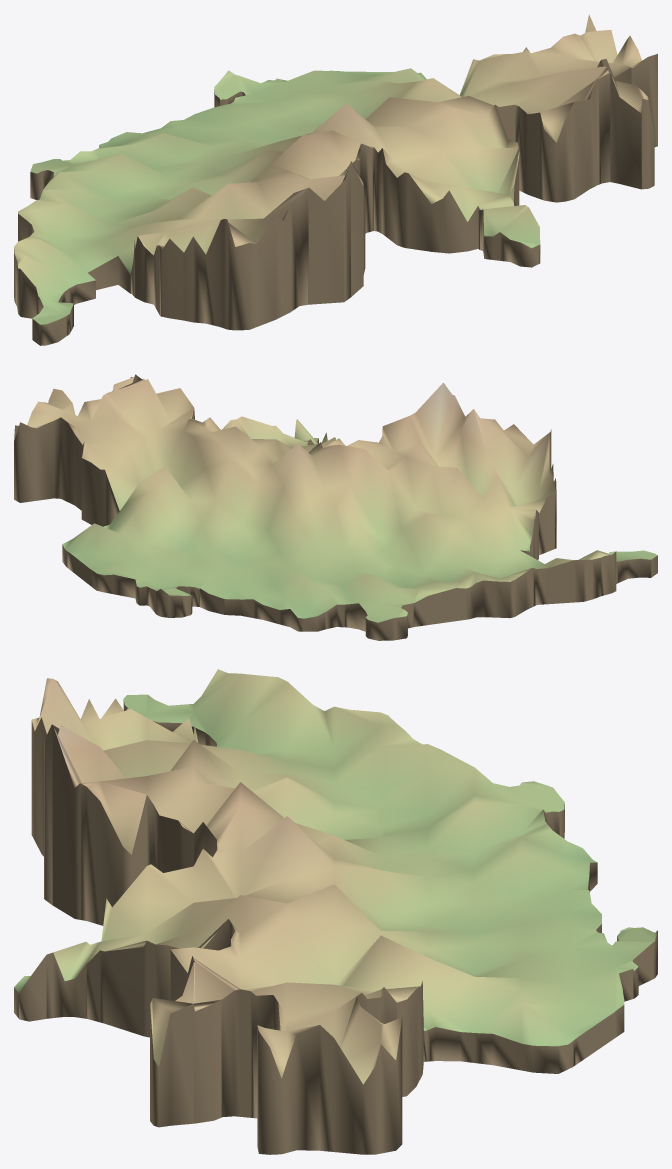
File: CHE.glb
3 views of the same model, one above another, from view 1: azimuth 30°, elevation 25°; view 2: azimuth 150°, elevation 25°; view 3: azimuth 270°, elevation 25° (orthographic). The views are drawn at different scales.
Visible parts, largest first — view 1: CHE; view 2: CHE; view 3: CHE.
Boxes of the visible parts, x1,y1,x2,y2 form: CHE: (14, 14, 657, 345); CHE: (14, 374, 657, 640); CHE: (14, 669, 657, 1154).
Size of the model in its own units: 1.74 by 0.338 by 1.1.
